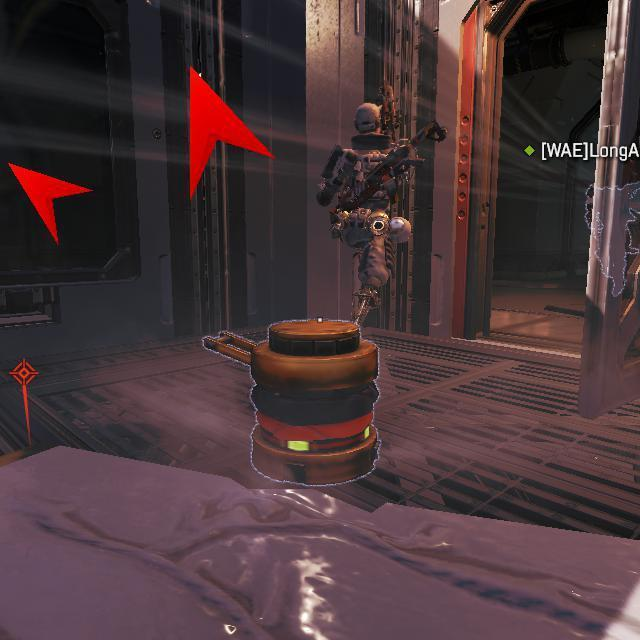avatar: (313, 101, 421, 324)
